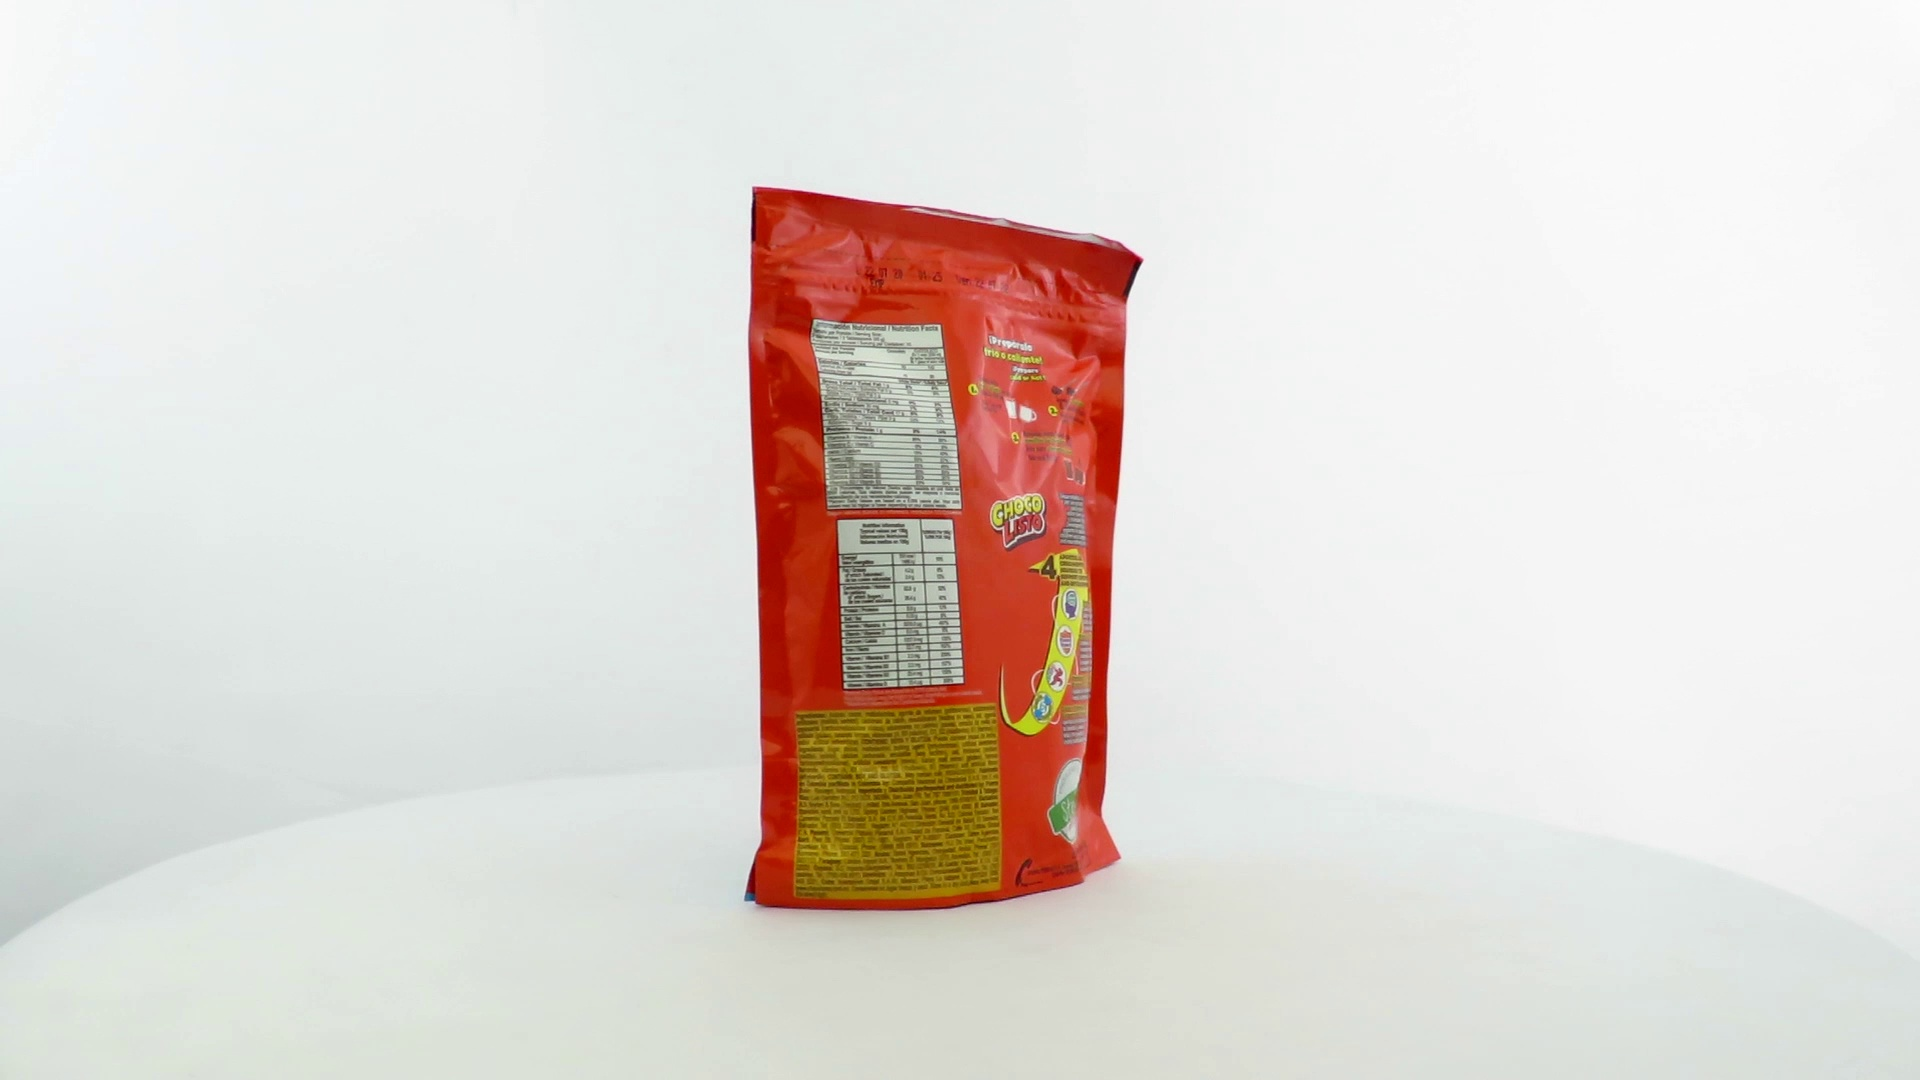COL0170104DYP20000: (738, 181, 1150, 916)
